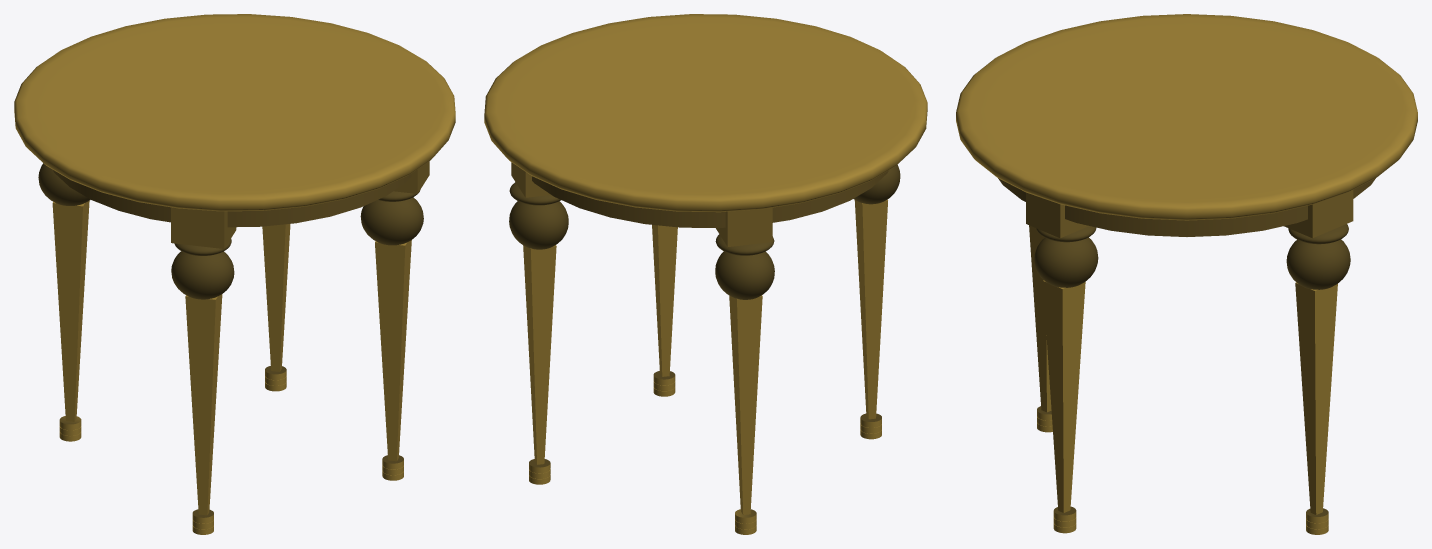
The model's file is Mesa.fbx.
3 views of the same model, side by side, from view 1: azimuth 30°, elevation 25°; view 2: azimuth 150°, elevation 25°; view 3: azimuth 270°, elevation 25° (orthographic). The views are drawn at different scales.
Visible parts, largest first — view 1: Sphere.006; view 2: Sphere.006; view 3: Sphere.006.
Boxes of the visible parts, x1=… form: Sphere.006: x1=14, y1=14, x2=455, y2=534; Sphere.006: x1=484, y1=14, x2=927, y2=534; Sphere.006: x1=956, y1=14, x2=1417, y2=534.
Size of the model in its own units: 75.1 by 65.95 by 75.1.
Materials: 1 (1 with a texture image).
